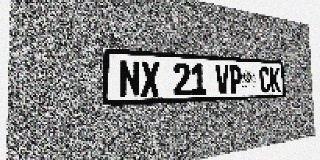1: (190, 63, 206, 95)
2: (173, 62, 190, 96)
C: (259, 67, 271, 93)
K: (270, 67, 280, 92)
N: (119, 60, 140, 98)
P: (229, 65, 242, 94)
V: (215, 64, 229, 94)
X: (140, 61, 160, 97)
